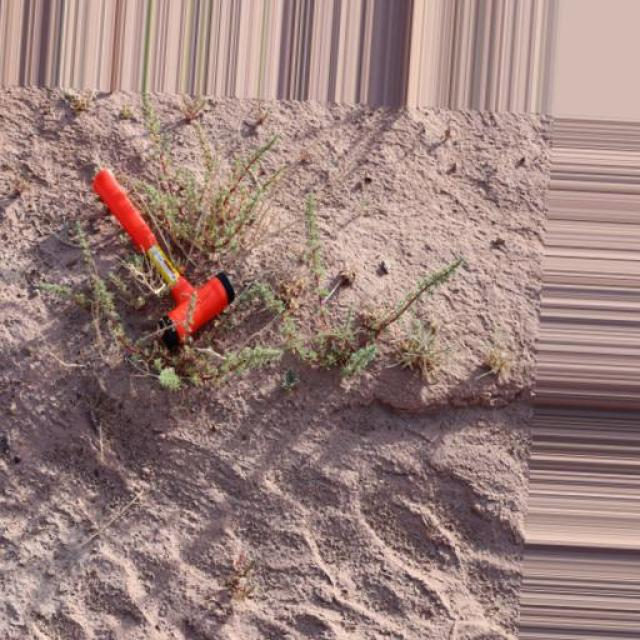mallet: (89, 165, 235, 349)
